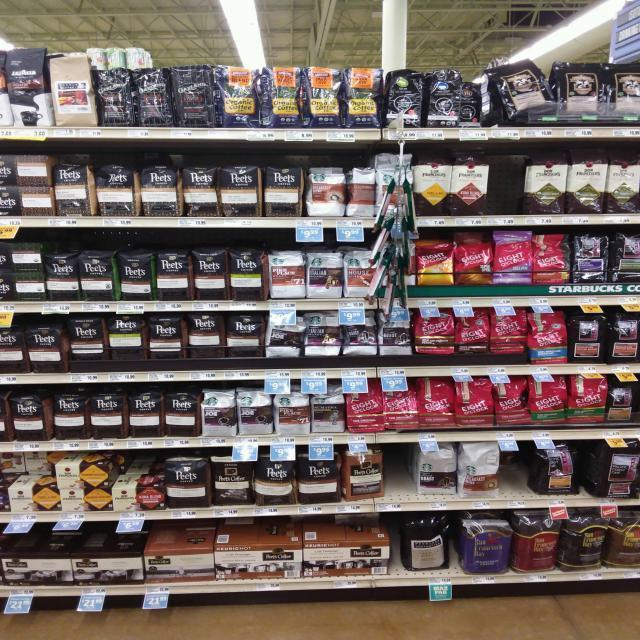Imprecise: (486, 59, 561, 124), (460, 77, 494, 128)
